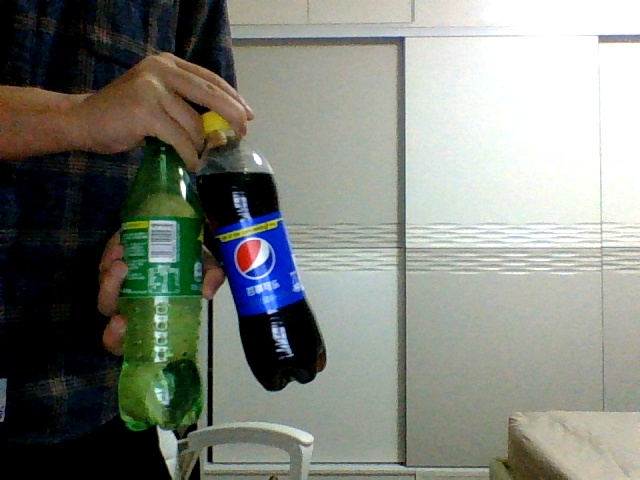Cola: (195, 111, 327, 392)
Sprite: (117, 138, 199, 433)
